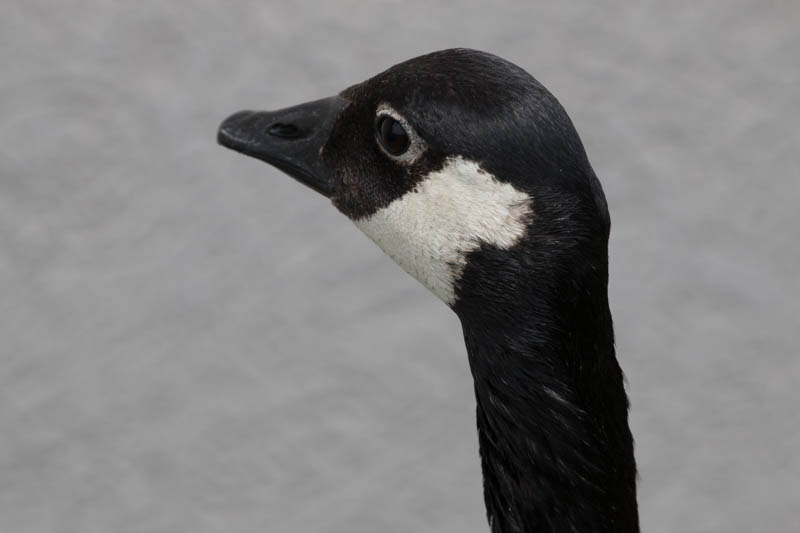goose-head: (217, 47, 612, 317)
